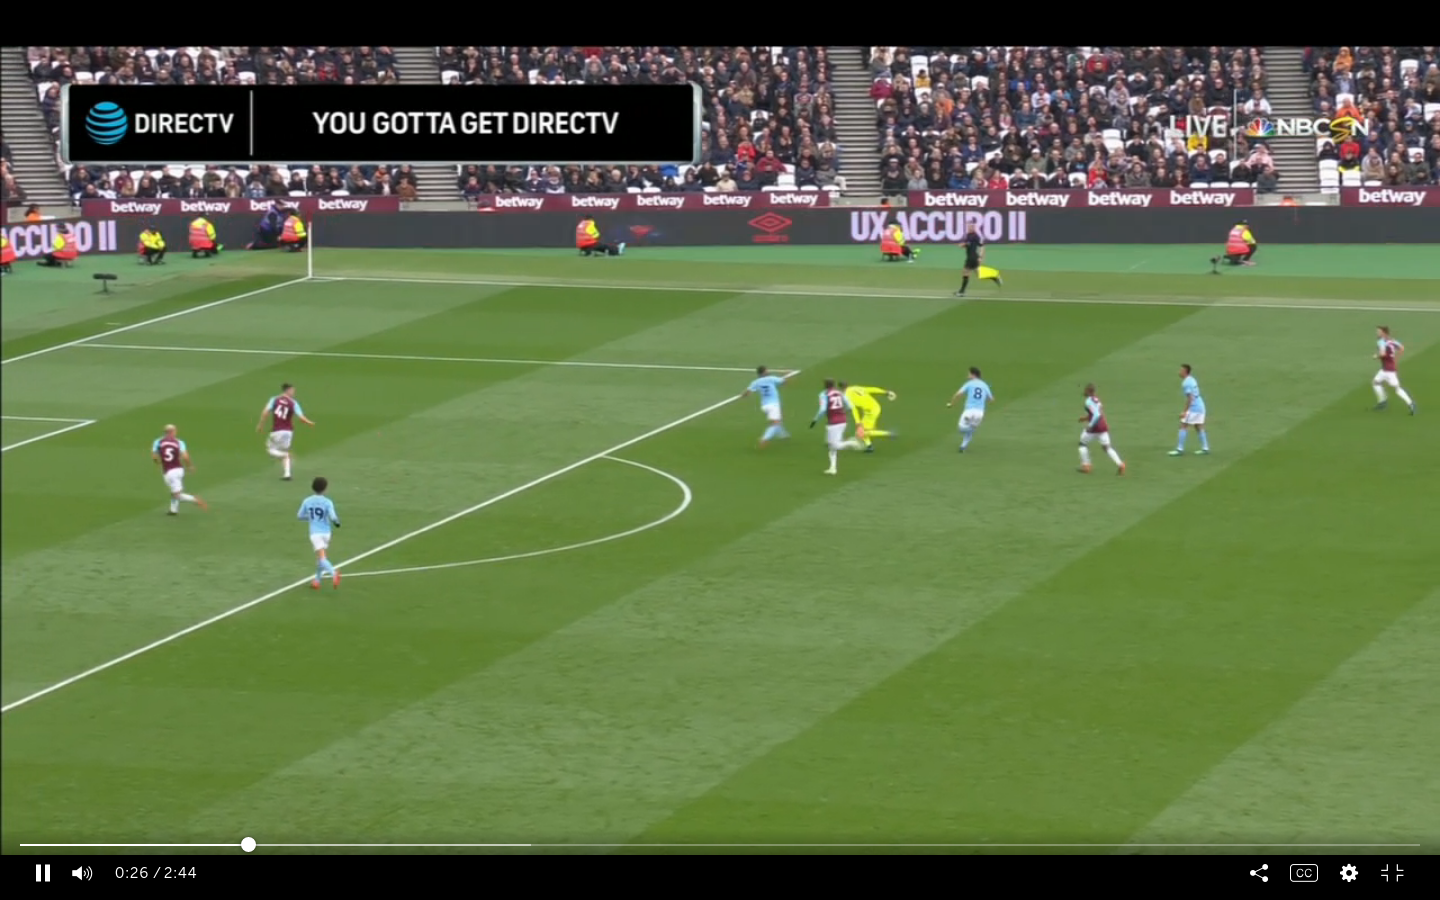referee: (952, 219, 1005, 297)
soccer player: (1064, 377, 1133, 483), (295, 477, 350, 600), (252, 382, 318, 483), (147, 417, 208, 522), (1162, 360, 1219, 459), (838, 371, 905, 451), (812, 382, 865, 482), (1368, 319, 1419, 419), (742, 363, 801, 448), (948, 363, 1002, 454)
